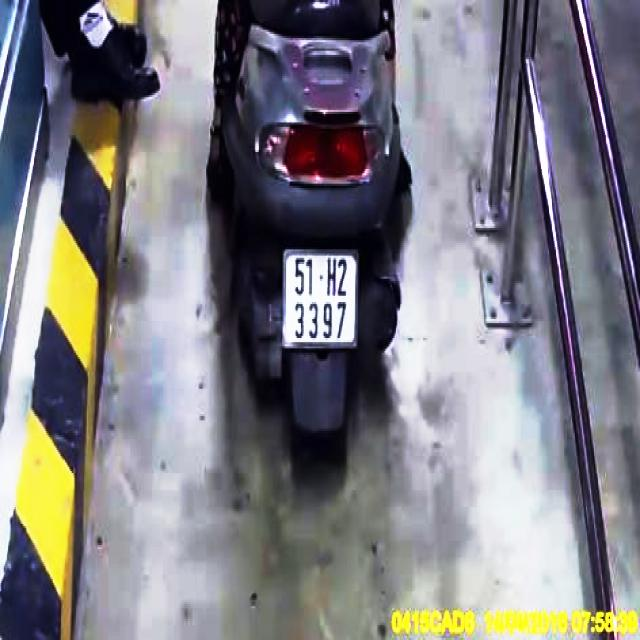license_plate: (285, 252, 358, 349)
